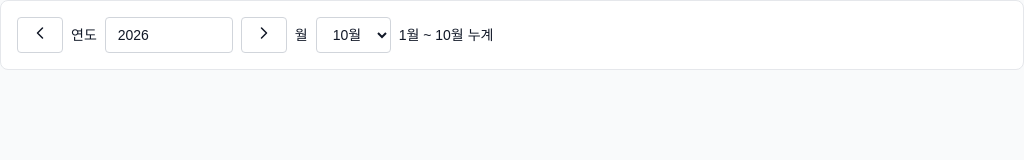
Test: 기간과 견본 입력 › YEAR_CUM은 선택월까지 누계를 보여준다
The width and height of the screenshot is (1024, 160).
Select "3월" in the dropdown named "누계 종료 월" at (353, 35), box [316, 17, 391, 53]
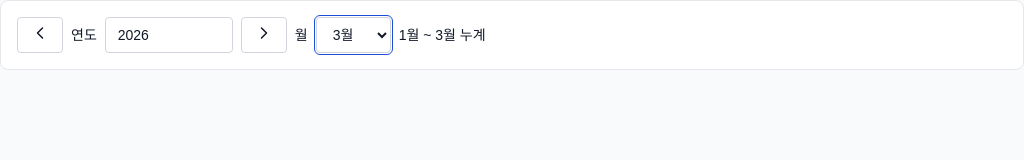
Now the text "1월 ~ 3월 누계" is shown, box [399, 25, 486, 45]
